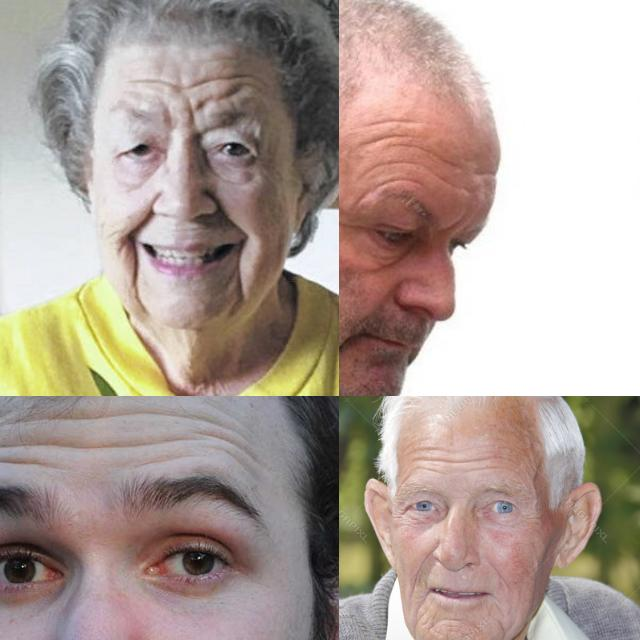chin: (417, 598, 438, 632), (439, 610, 466, 628), (492, 616, 512, 636)
forehead: (192, 412, 250, 462), (0, 436, 60, 478), (60, 398, 126, 428), (118, 432, 184, 462), (136, 398, 188, 432), (187, 72, 249, 100), (372, 156, 418, 192), (120, 68, 174, 96), (354, 130, 414, 152), (452, 448, 502, 474), (412, 440, 444, 476), (438, 172, 478, 198), (369, 112, 415, 128), (433, 148, 461, 172), (0, 406, 8, 441)
frown_line: (158, 103, 202, 129)
gummy_smile: (211, 186, 253, 234), (124, 194, 156, 243), (413, 546, 431, 588), (488, 562, 508, 586)
sad_smile: (122, 244, 150, 306), (228, 248, 248, 304)
